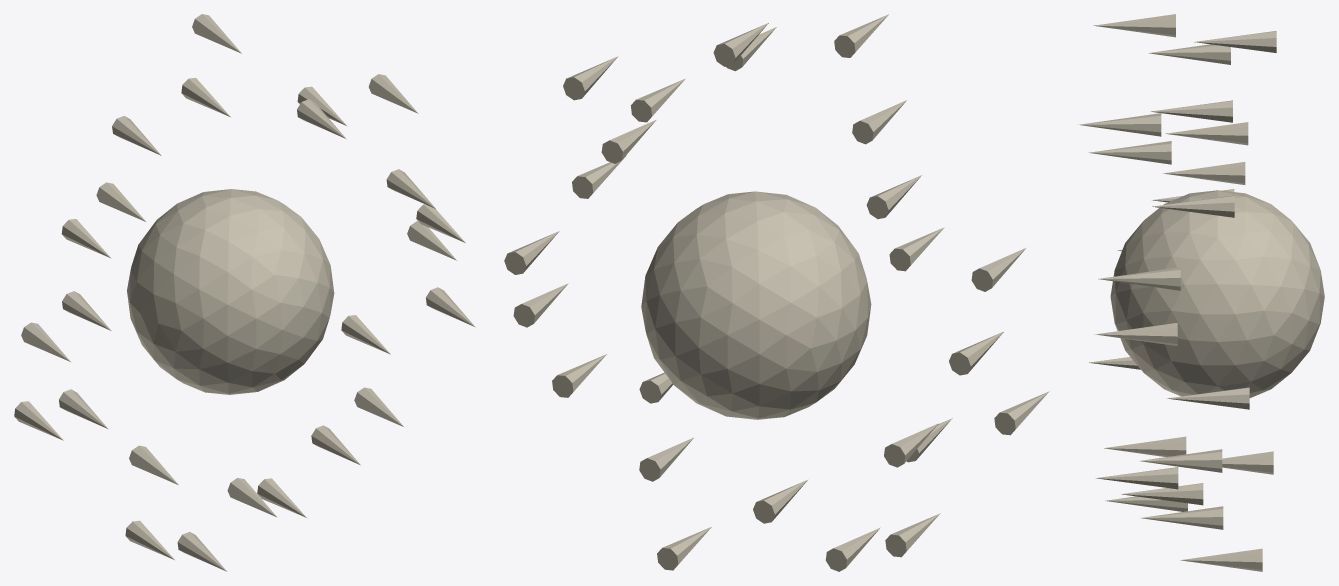
Rendered from tech_144.glb.
3 renders of one model, left to right at view 1: azimuth 30°, elevation 25°; view 2: azimuth 150°, elevation 25°; view 3: azimuth 270°, elevation 25°, orthographic. The views are drawn at different scales.
Visible parts, largest first — view 1: world; view 2: world; view 3: world.
Part boxes in pixels (bbox=[...]): world: bbox=[14, 14, 475, 571]; world: bbox=[504, 14, 1049, 571]; world: bbox=[1078, 14, 1324, 571].
Bounding box in the file's own units: 2.21 × 2.36 × 1.04.
